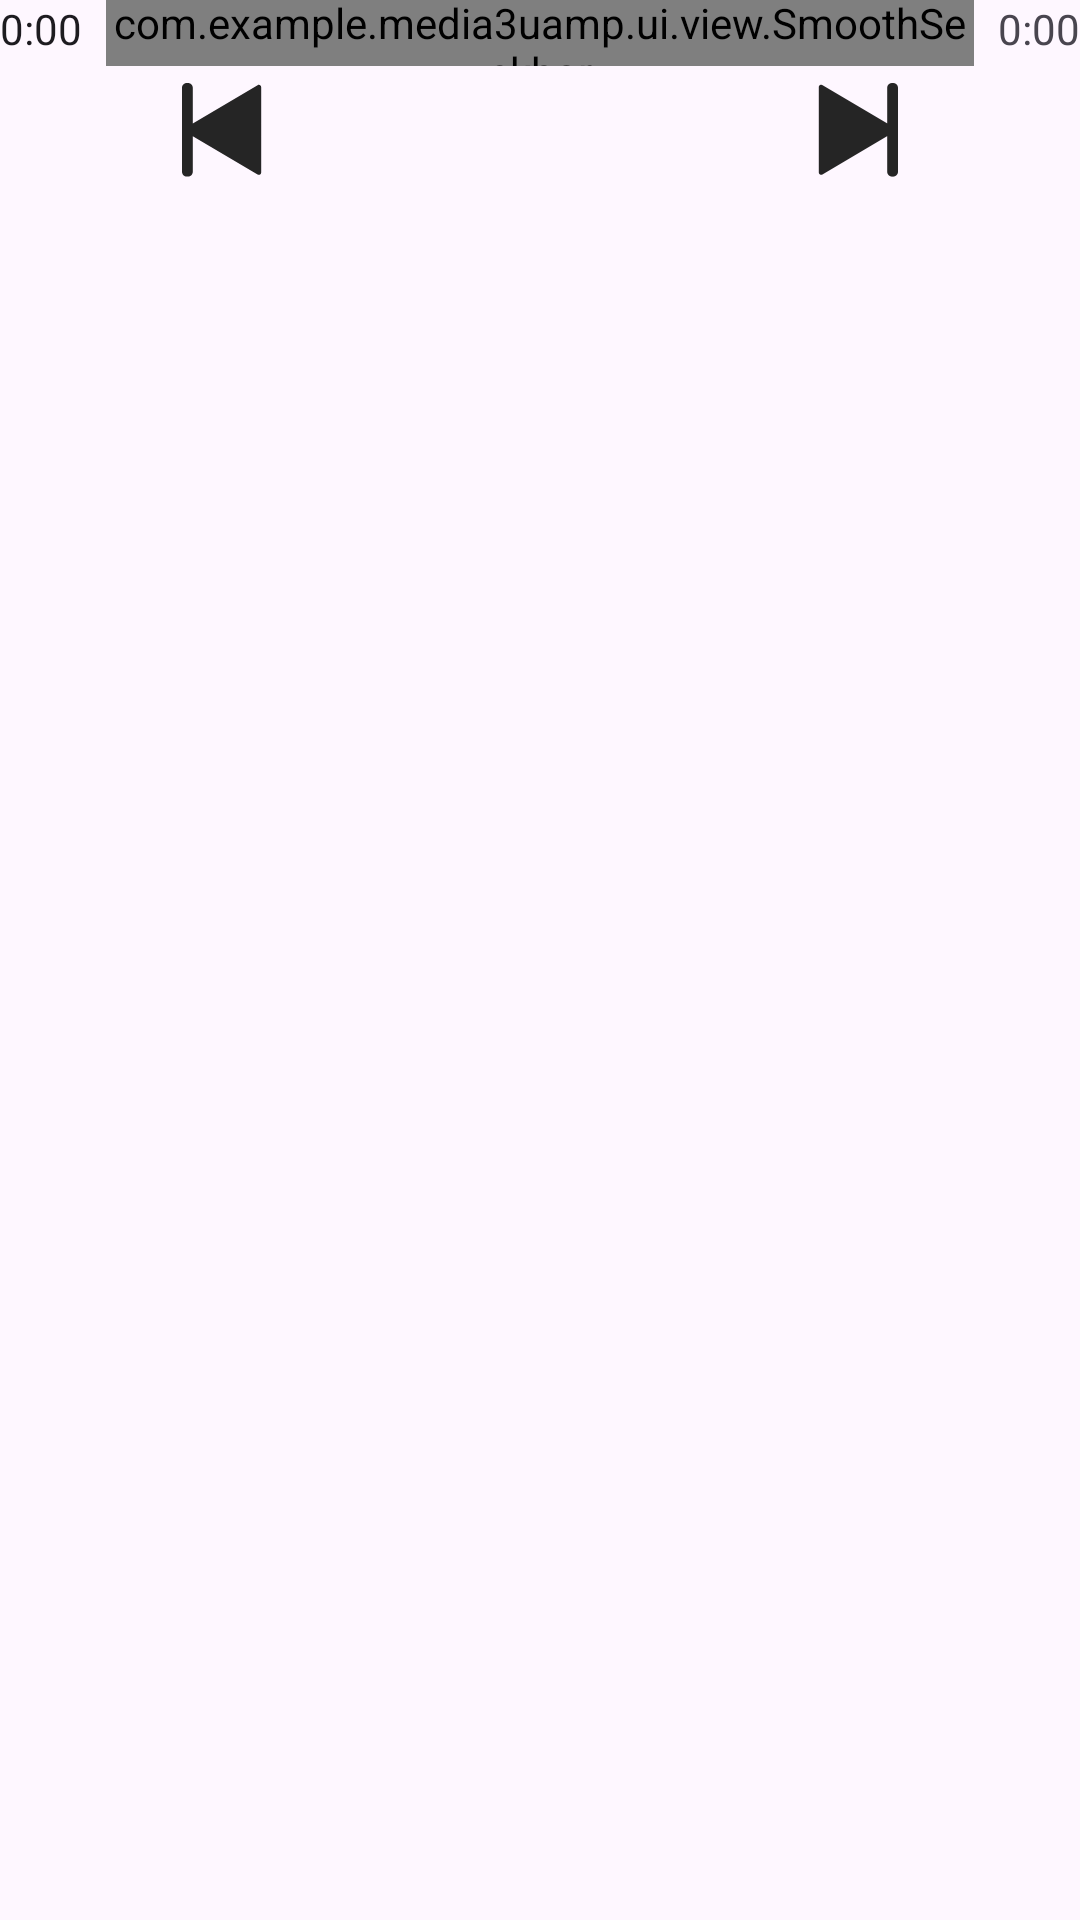

Screen size 1080×1920. Icon name, then its box in pixels as (x1, y1, x2, y2):
next: (818, 83, 898, 177)
previous: (182, 83, 262, 177)
